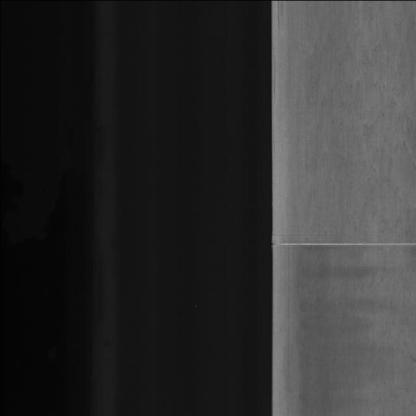silk_spot: (328, 11, 412, 226), (358, 267, 413, 410)
welding_line: (272, 232, 416, 254)
